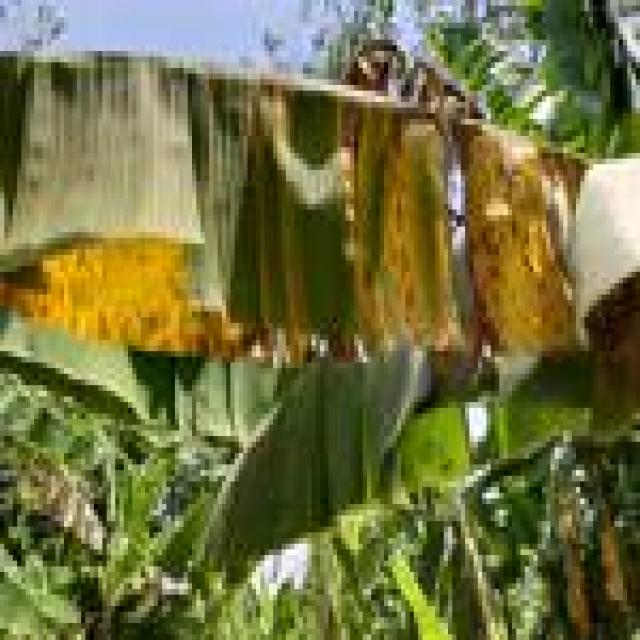Early_rust: (0, 24, 600, 395)
